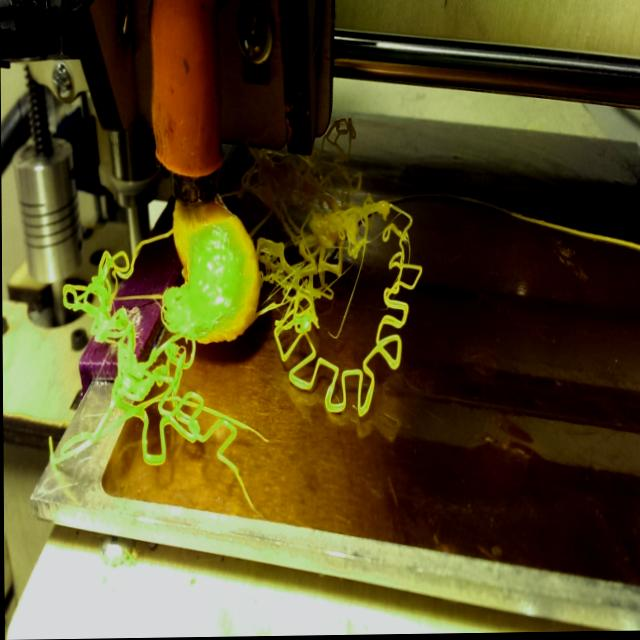spaghetti: (68, 165, 436, 481)
